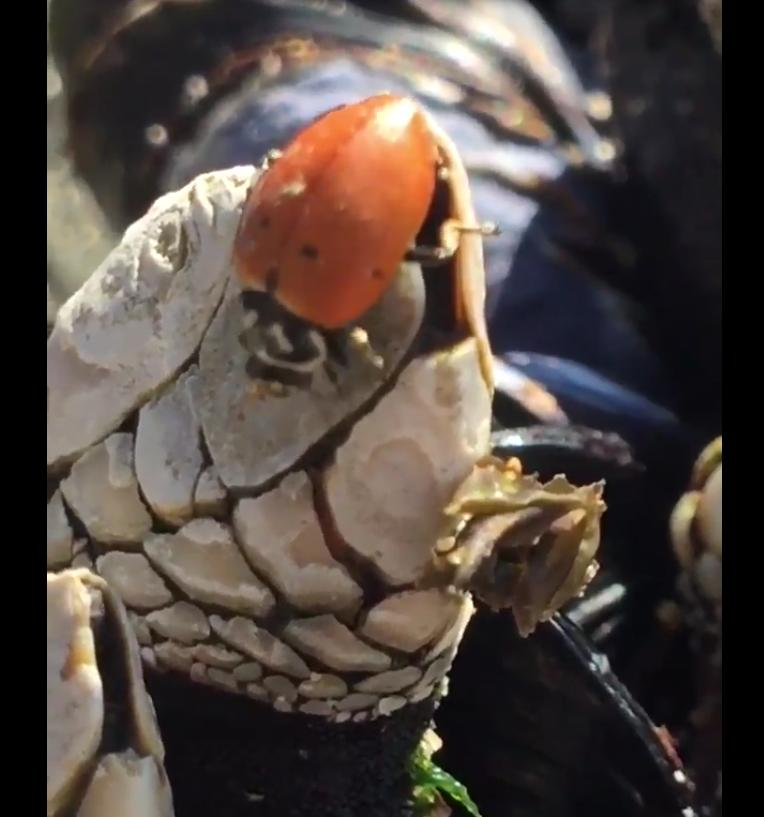ladybug: (229, 91, 505, 407)
